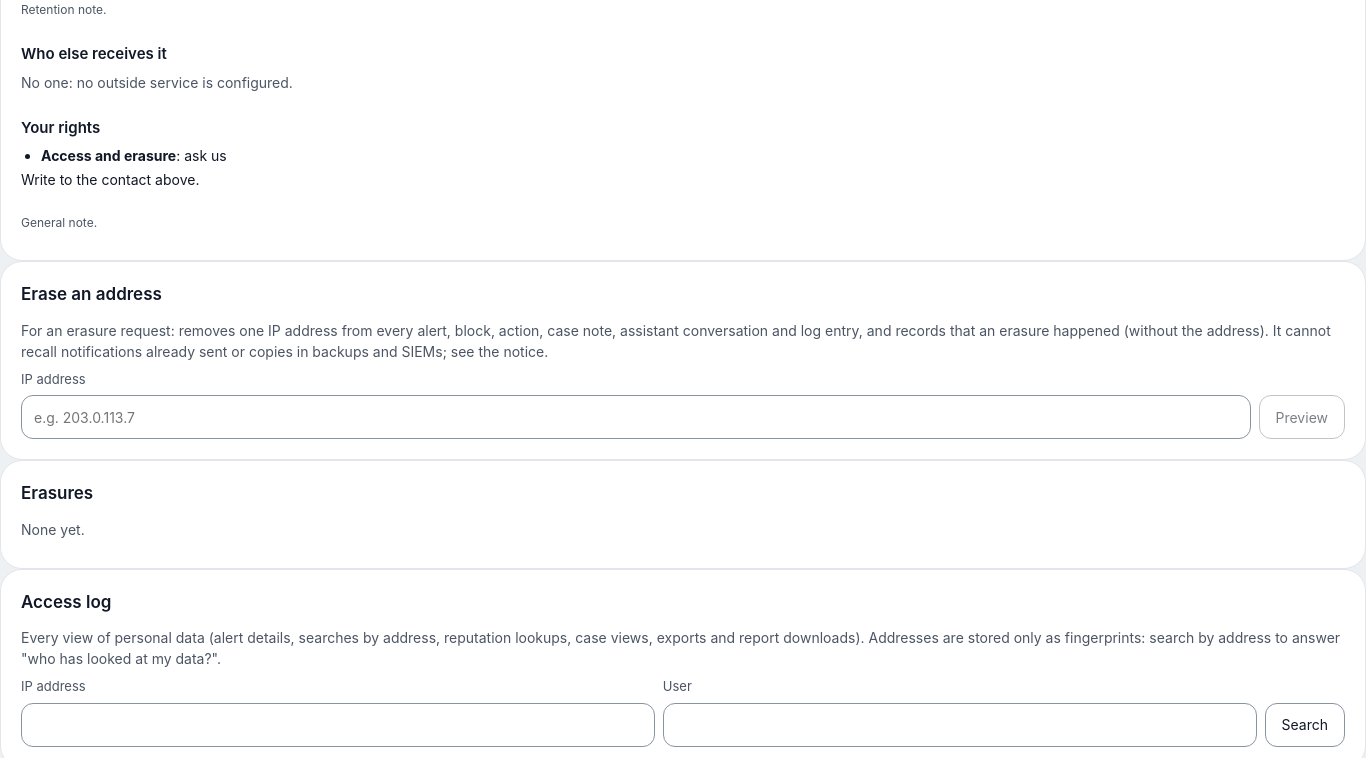
Erase › says Nothing holds when every count is zero
This screenshot has width=1366, height=758.
(page scrolled)
Type "203.0.113.7" into the field labelled "IP address" below "Erase an address" at coordinates (636, 417), box top-left (21, 395), bottom-right (1250, 439)
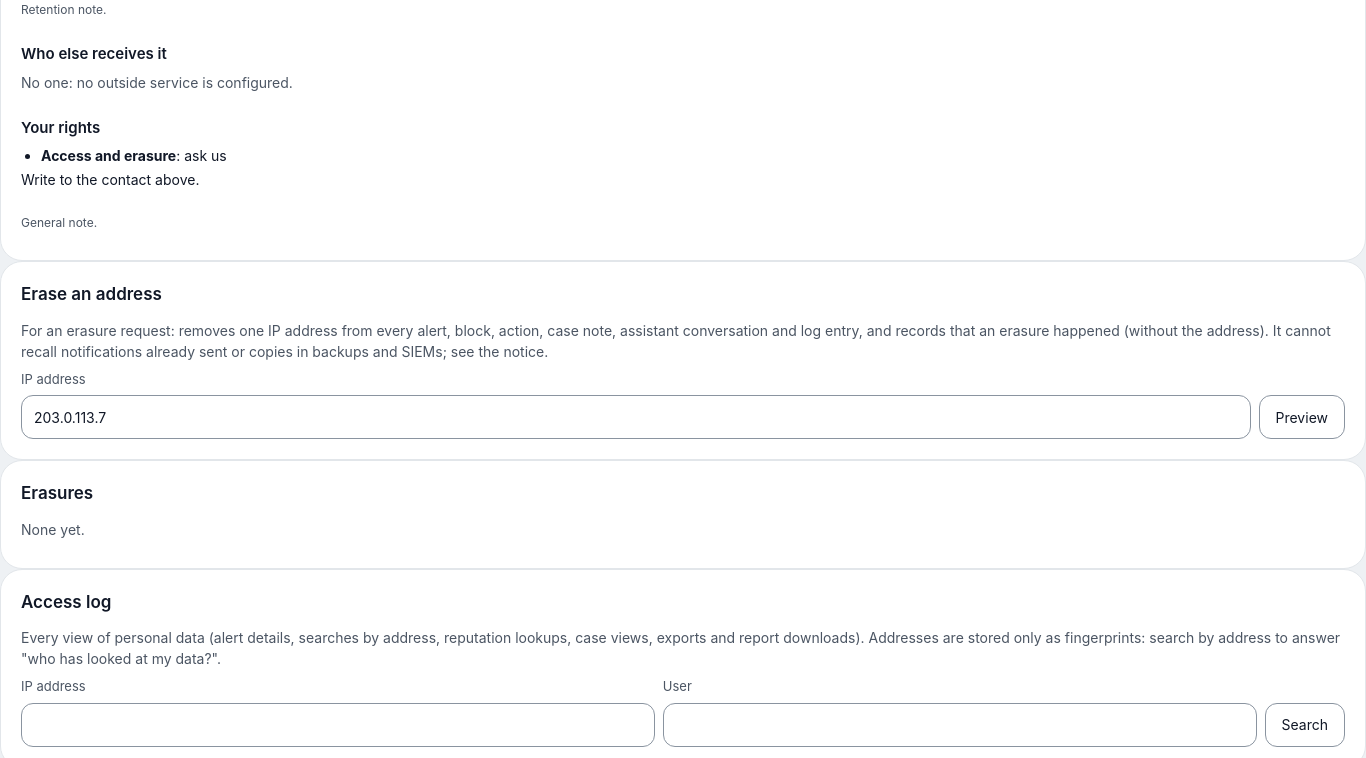
Click the button "Preview" at coordinates (1302, 417), box top-left (1258, 395), bottom-right (1345, 439)
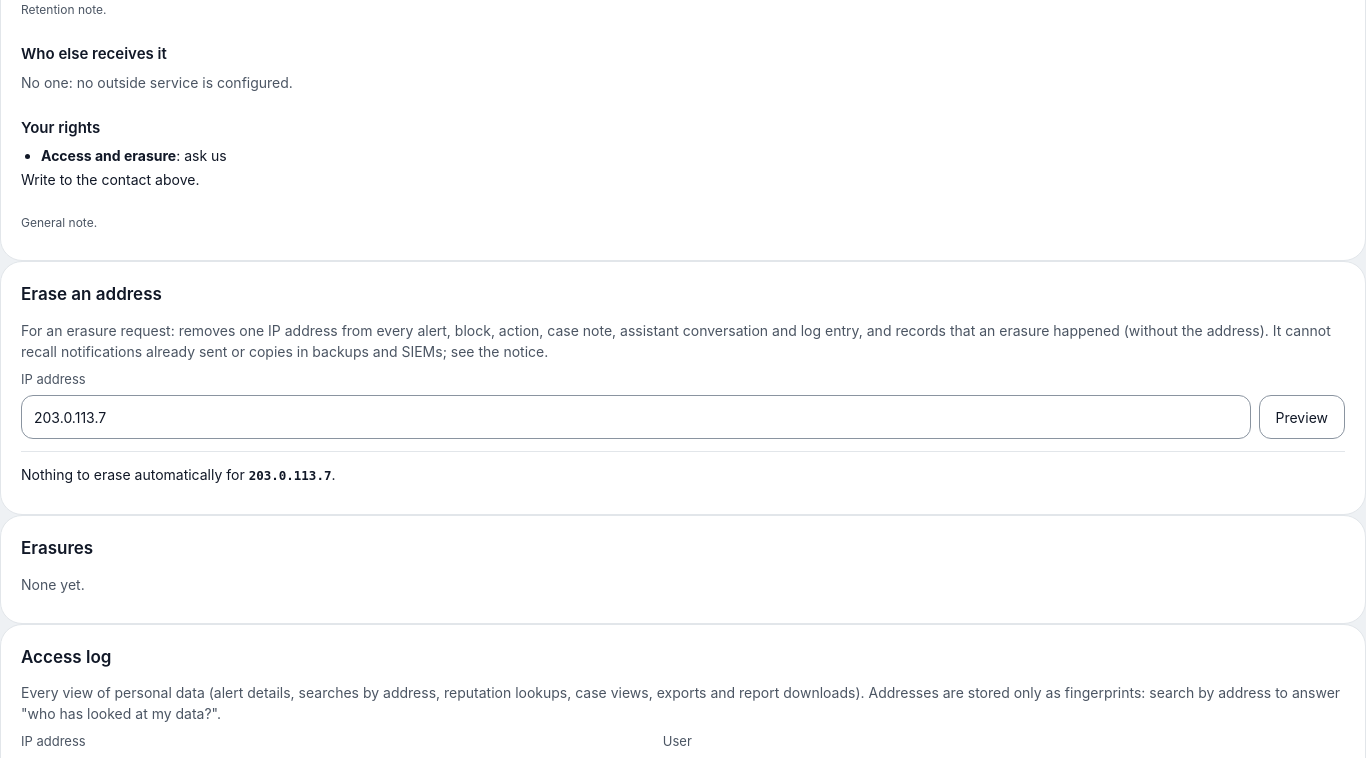
Expected: the text "Nothing to erase automatically for 203.0.113.7." is shown, top-left (21, 466), bottom-right (336, 483)
